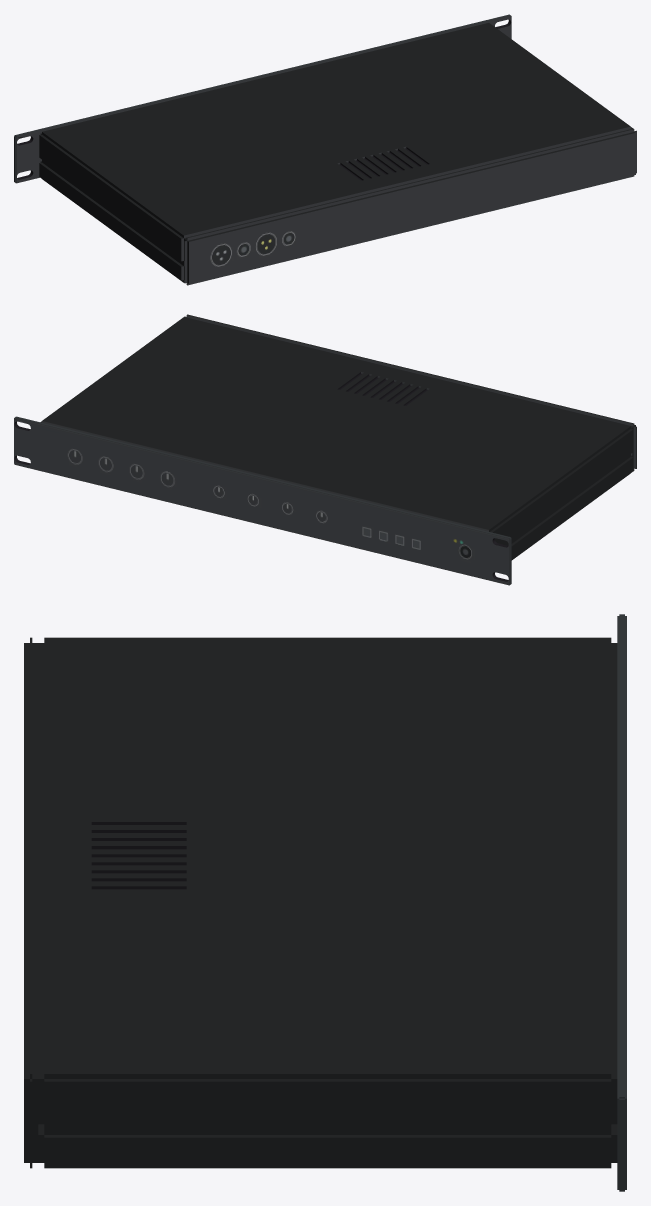
Rendered from warm-audio-wa73-eq.glb.
3 renders of one model, top to bottom at view 1: azimuth 30°, elevation 25°; view 2: azimuth 150°, elevation 25°; view 3: azimuth 270°, elevation 25°, orthographic. The views are drawn at different scales.
Parts seen in each view (by area): view 1: warm-audio-wa73-eq-body; view 2: warm-audio-wa73-eq-body; view 3: warm-audio-wa73-eq-body.
Part boxes in pixels (bbox=[...]): warm-audio-wa73-eq-body: bbox=[14, 14, 636, 285]; warm-audio-wa73-eq-body: bbox=[14, 314, 636, 585]; warm-audio-wa73-eq-body: bbox=[24, 614, 626, 1191].
Size of the model in its own units: 0.483 by 0.044 by 0.254.
1 material, 1 textured.
